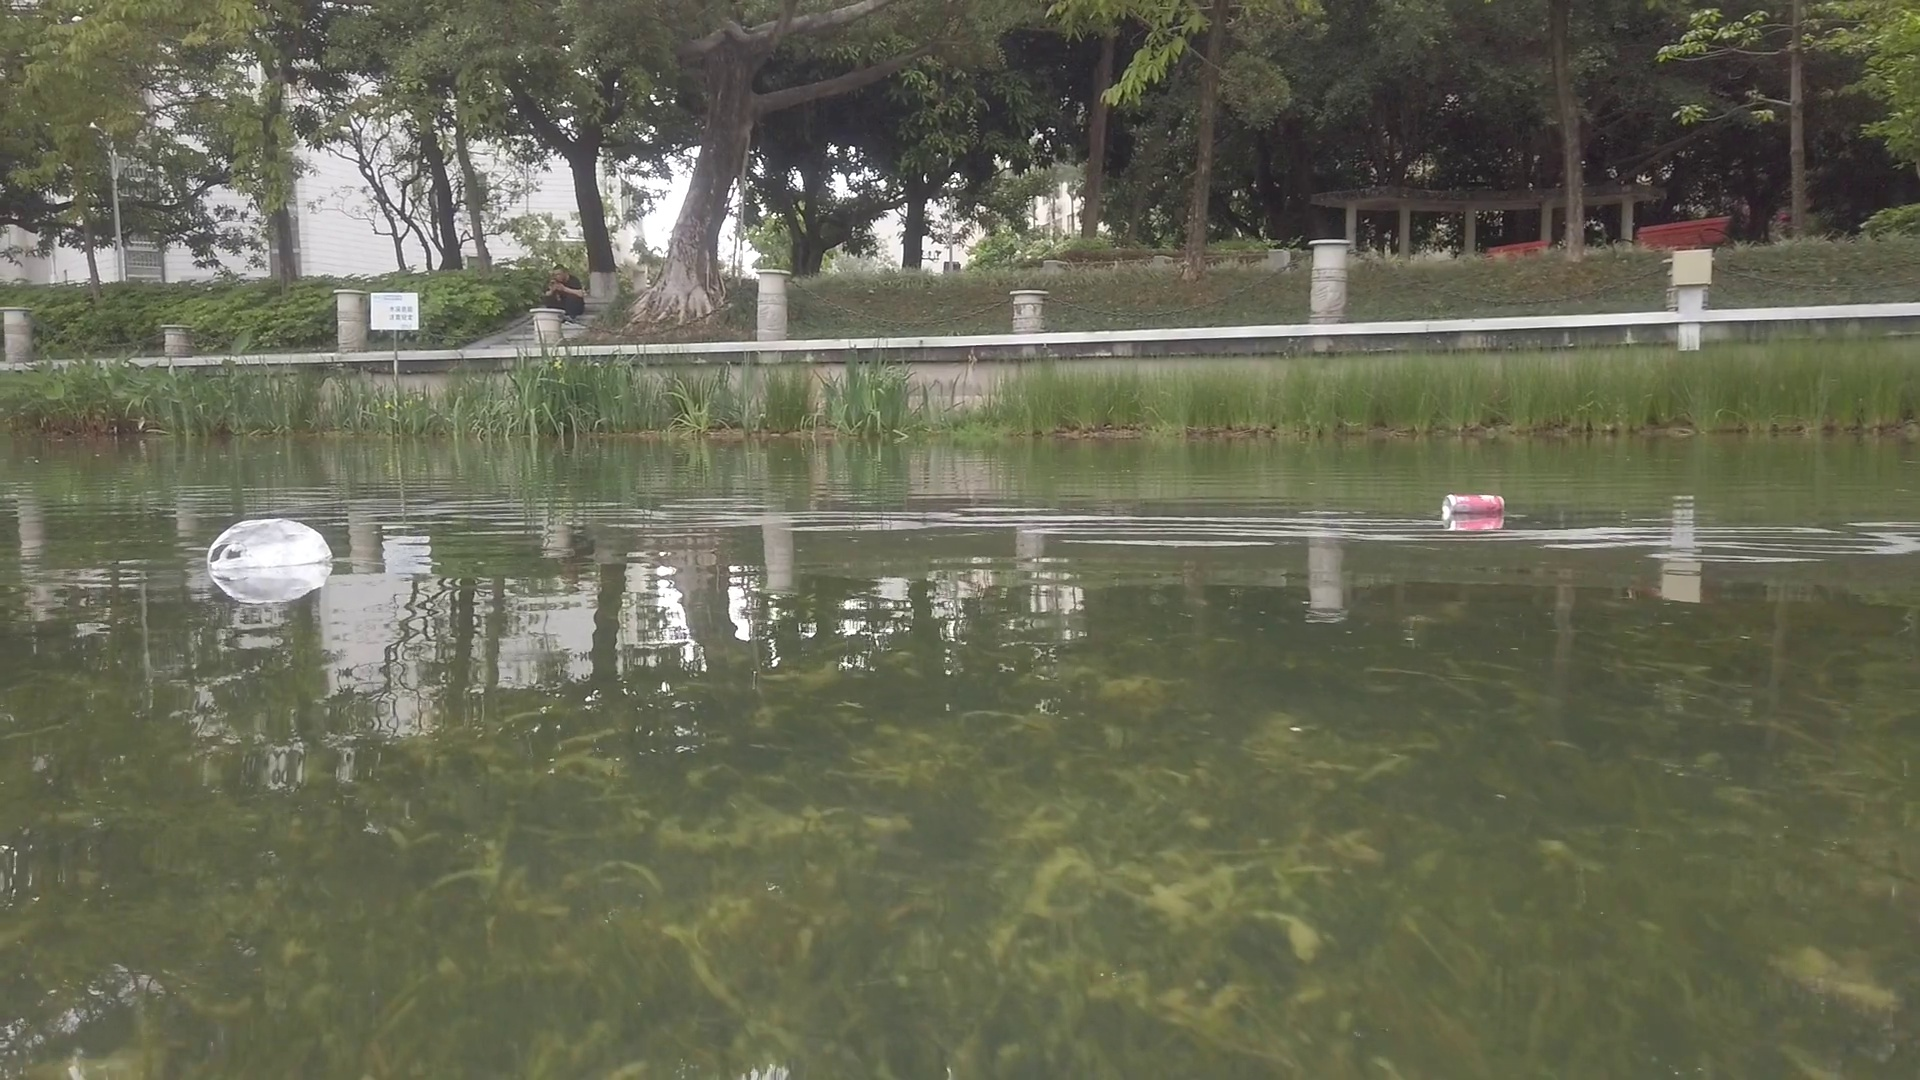bottle: (1443, 493, 1509, 516)
plastic: (206, 516, 338, 568)
